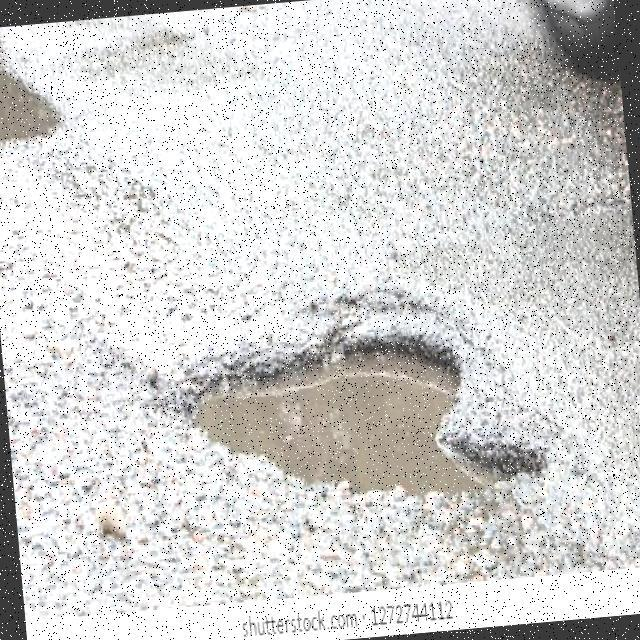Pothole: (198, 344, 543, 496)
